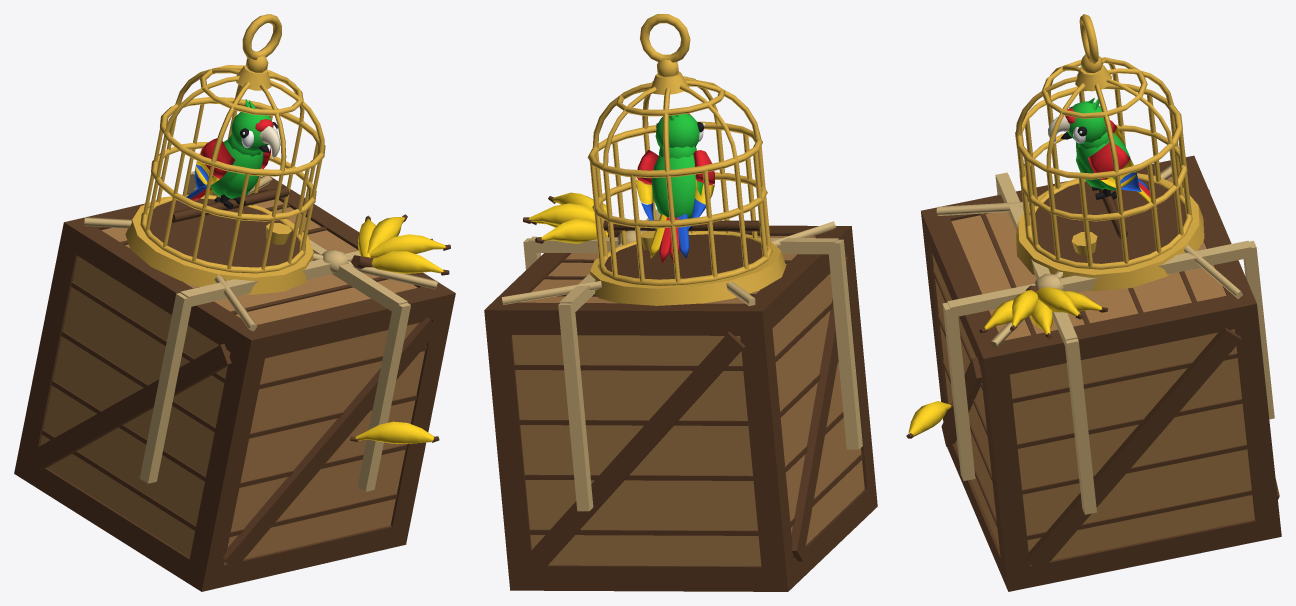
The model's file is disc-parrot-crate.glb.
The picture shows the model from 3 angles, left to right: view 1: azimuth 30°, elevation 25°; view 2: azimuth 150°, elevation 25°; view 3: azimuth 270°, elevation 25°; orthographic projection. The views are drawn at different scales.
Visible parts, largest first — view 1: Mesh_CrateBody, Mesh_CrateCorner2, Mesh_CrateRailZTA, Mesh_CrateBrace0, Mesh_CrateRailXTR, Mesh_CageFloor, Mesh_CrateCorner3, Mesh_CrateRailZBA, Mesh_CrateBrace3, Mesh_CrateCorner0, Mesh_CrateRailXBR, Mesh_CageBase (+25 smaller); view 2: Mesh_CrateBody, Mesh_CrateCorner3, Mesh_CrateRailXTL, Mesh_CrateCorner1, Mesh_CrateBrace1, Mesh_CrateRailXBL, Mesh_CageBase, Mesh_CrateBrace3, Mesh_CageFloor, Mesh_CrateRailZTA, Mesh_LashSideXn, Mesh_LashSideZn (+33 smaller); view 3: Mesh_CrateBody, Mesh_CrateRailZTF, Mesh_CrateCorner0, Mesh_CageFloor, Mesh_CrateBrace2, Mesh_CrateRailZBF, Mesh_CrateCorner1, Mesh_CageBase, Mesh_CrateRailXTR, Mesh_LashTopZ, Mesh_LashSideXp, Mesh_LashSideZp (+35 smaller).
Part boxes in pixels (x1,y1,x2,y2): Mesh_CrateBody: [40, 199, 426, 563]; Mesh_CrateCorner2: [185, 328, 269, 591]; Mesh_CrateRailZTA: [68, 223, 268, 362]; Mesh_CrateBrace0: [222, 317, 438, 570]; Mesh_CrateRailXTR: [231, 287, 442, 361]; Mesh_CageFloor: [149, 198, 299, 267]; Mesh_CrateCorner3: [14, 220, 83, 483]; Mesh_CrateRailZBA: [14, 461, 223, 591]; Mesh_CrateBrace3: [29, 344, 231, 471]; Mesh_CrateCorner0: [388, 294, 451, 548]; Mesh_CrateRailXBR: [185, 525, 406, 590]; Mesh_CageBase: [125, 194, 313, 294]; Mesh_CrateBody: [512, 236, 864, 566]; Mesh_CrateCorner3: [738, 304, 795, 591]; Mesh_CrateRailXTL: [484, 302, 772, 335]; Mesh_CrateCorner1: [484, 302, 532, 590]; Mesh_CrateBrace1: [525, 331, 745, 571]; Mesh_CrateRailXBL: [515, 565, 795, 591]; Mesh_CageBase: [589, 238, 785, 305]; Mesh_CrateBrace3: [791, 256, 854, 561]; Mesh_CageFloor: [604, 234, 762, 279]; Mesh_CrateRailZTA: [738, 226, 853, 335]; Mesh_LashSideXn: [827, 239, 862, 449]; Mesh_LashSideZn: [558, 303, 593, 511]; Mesh_CrateBody: [932, 176, 1254, 564]; Mesh_CrateRailZTF: [979, 295, 1256, 379]; Mesh_CrateCorner0: [978, 342, 1031, 587]; Mesh_CageFloor: [1035, 179, 1185, 263]; Mesh_CrateBrace2: [1025, 327, 1241, 571]; Mesh_CrateRailZBF: [1000, 518, 1278, 590]; Mesh_CrateCorner1: [1228, 291, 1281, 538]; Mesh_CageBase: [1016, 173, 1204, 291]; Mesh_CrateRailXTR: [922, 208, 1008, 378]; Mesh_LashTopZ: [947, 240, 1252, 317]; Mesh_LashSideXp: [1064, 337, 1096, 514]; Mesh_LashSideZp: [942, 302, 975, 481].
Size of the model in its own units: 4.05 by 6.1 by 3.95.
